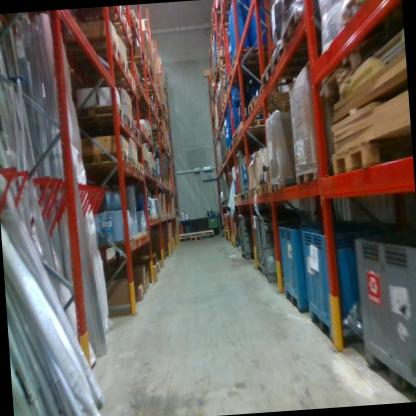pallet: (330, 129, 414, 182), (265, 30, 340, 85), (280, 3, 334, 64), (259, 58, 331, 102), (60, 28, 122, 76), (76, 66, 138, 95), (244, 91, 298, 120), (78, 53, 130, 82), (337, 0, 389, 27), (72, 102, 128, 126), (294, 158, 334, 191), (81, 148, 131, 174), (228, 43, 269, 71), (67, 7, 126, 26), (225, 68, 268, 91), (90, 18, 133, 40), (236, 118, 280, 139), (269, 171, 303, 198), (230, 126, 273, 147), (114, 12, 141, 38), (221, 98, 254, 118), (123, 55, 151, 76), (127, 154, 146, 175), (126, 115, 137, 145), (128, 7, 142, 30), (128, 151, 141, 175), (261, 177, 273, 198), (134, 118, 144, 143), (217, 50, 230, 68), (215, 57, 230, 72), (139, 155, 150, 175), (140, 118, 150, 139), (216, 65, 229, 80), (255, 179, 264, 200), (220, 77, 230, 95), (132, 58, 141, 78), (144, 160, 154, 177), (224, 86, 234, 102), (250, 185, 257, 200), (151, 165, 159, 178), (191, 234, 202, 243), (243, 188, 251, 200), (237, 190, 244, 203), (149, 129, 155, 143), (162, 176, 168, 189), (233, 193, 239, 203), (166, 181, 171, 190)
stillage: (260, 216, 288, 287), (238, 207, 262, 259), (252, 211, 267, 279), (223, 173, 234, 204), (215, 176, 223, 213), (221, 174, 226, 204), (219, 130, 223, 166), (223, 126, 227, 160), (221, 130, 225, 162)
